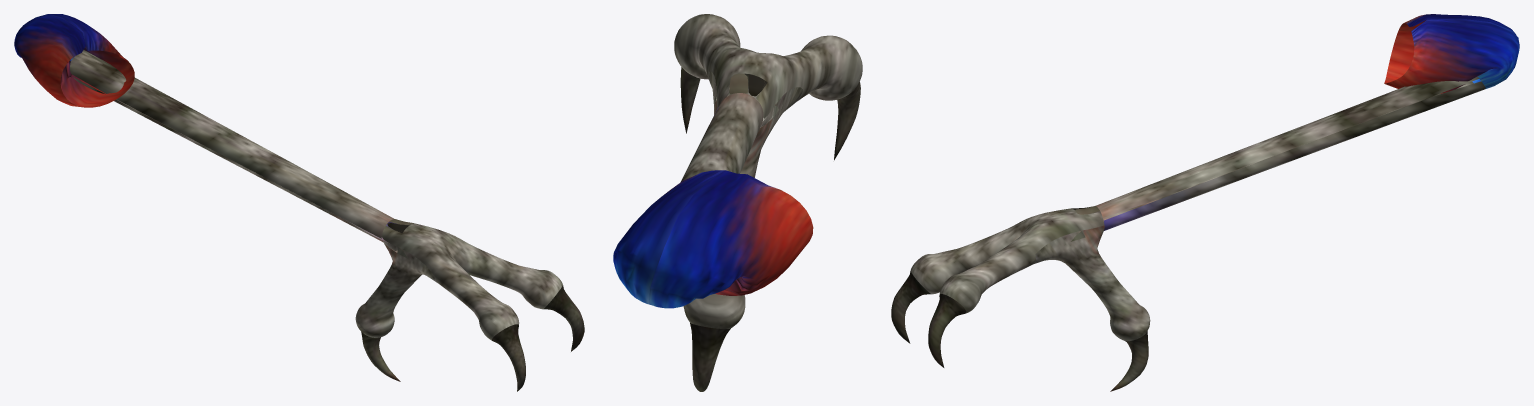
File: PataIzq.obj
The picture shows the model from 3 angles, left to right: view 1: azimuth 30°, elevation 25°; view 2: azimuth 150°, elevation 25°; view 3: azimuth 270°, elevation 25°; orthographic projection. The views are drawn at different scales.
Parts seen in each view (by area): view 1: pajaro_azul.014; view 2: pajaro_azul.014; view 3: pajaro_azul.014.
Part boxes in pixels (x1,y1,x2,y2): pajaro_azul.014: [14, 14, 584, 391]; pajaro_azul.014: [613, 14, 862, 391]; pajaro_azul.014: [891, 14, 1519, 391].
Size of the model in its own units: 5.06 by 4.47 by 8.81.
1 material, 1 textured.
